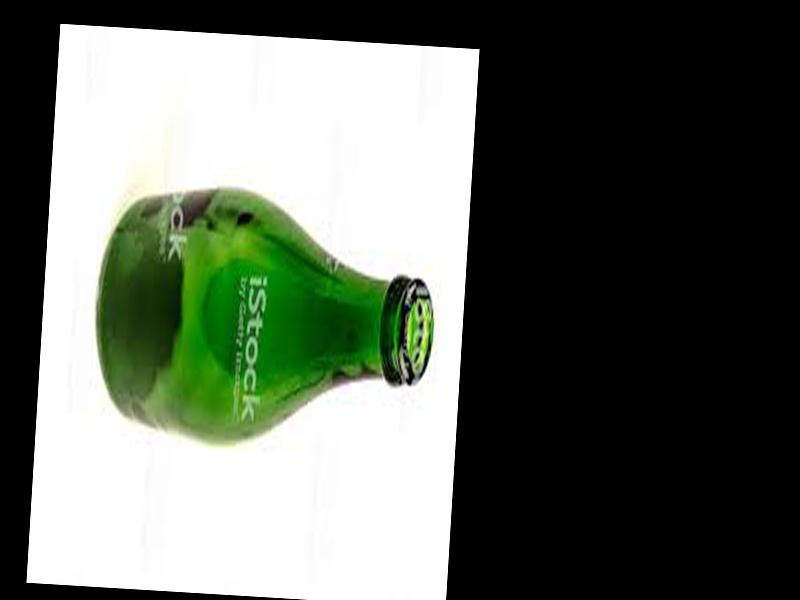Beer: (88, 179, 442, 458)
